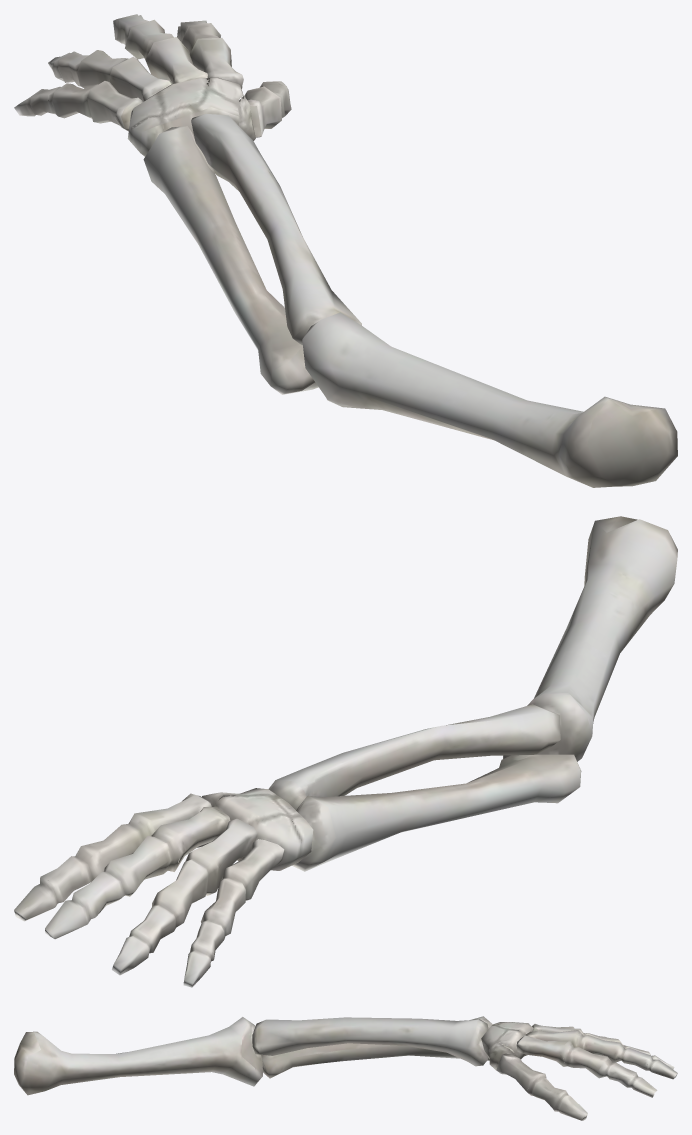
The picture shows the model from 3 angles, top to bottom: view 1: azimuth 30°, elevation 25°; view 2: azimuth 150°, elevation 25°; view 3: azimuth 270°, elevation 25°; orthographic projection. The views are drawn at different scales.
Visible parts, largest first — view 1: SM_Arm_L_LOD0; view 2: SM_Arm_L_LOD0; view 3: SM_Arm_L_LOD0.
Part boxes in pixels (box(x1,y1,x2,y2)): SM_Arm_L_LOD0: box(14, 14, 677, 487); SM_Arm_L_LOD0: box(14, 516, 677, 987); SM_Arm_L_LOD0: box(14, 1016, 677, 1120).
Size of the model in its own units: 0.2337 by 0.1055 by 0.8019.
Materials: 1 (1 with a texture image).
